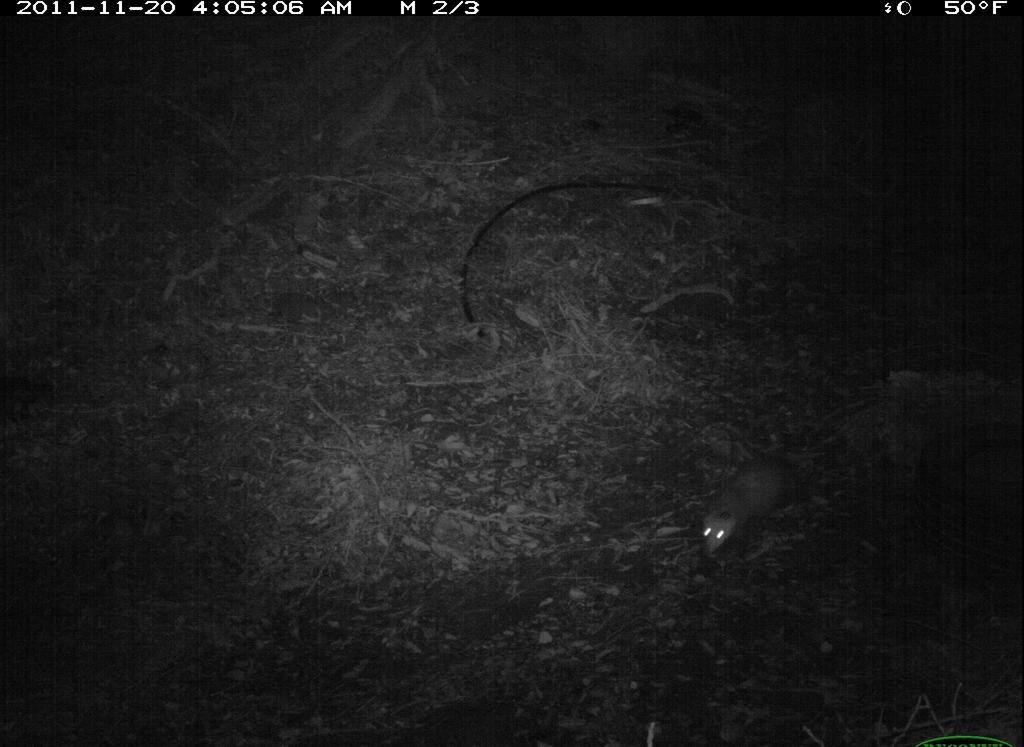opossum: (693, 452, 813, 568)
